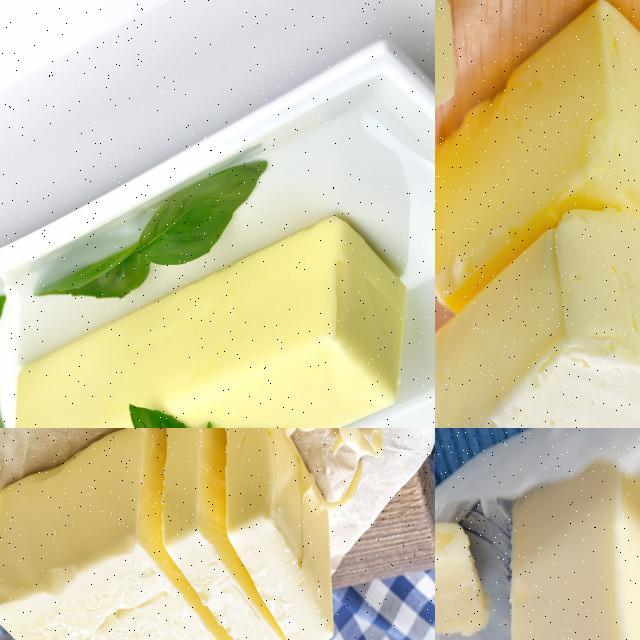Butter: (7, 213, 410, 427), (0, 428, 337, 639), (435, 0, 639, 329), (435, 208, 639, 427), (508, 450, 639, 639), (435, 521, 490, 639)
